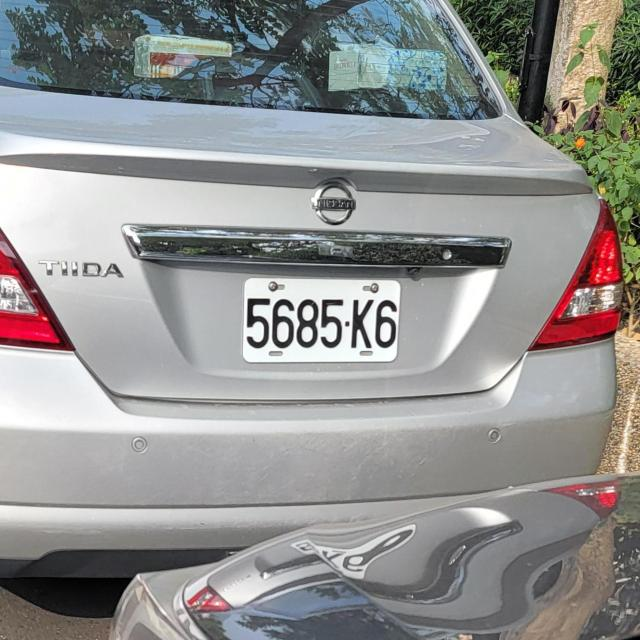W: (236, 272, 410, 368)
